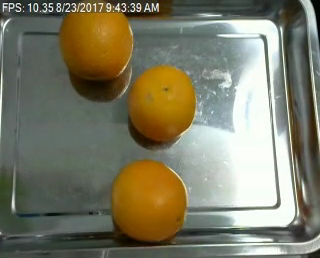Orange: (110, 160, 188, 240), (58, 1, 133, 82), (127, 66, 195, 143)
